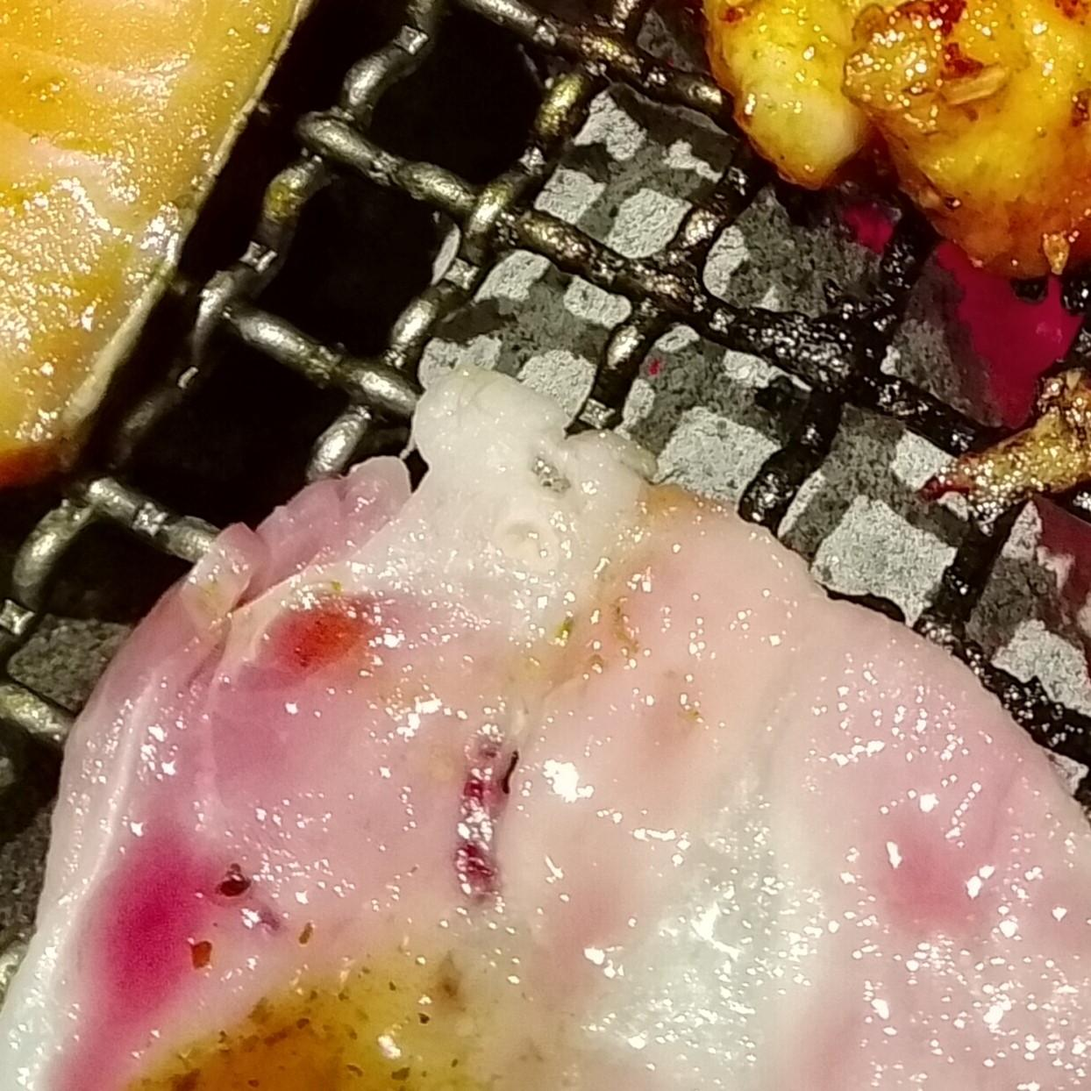Undercooked: (0, 367, 1090, 1090)
Well-Cooked: (840, 0, 1090, 286), (696, 0, 888, 194)
